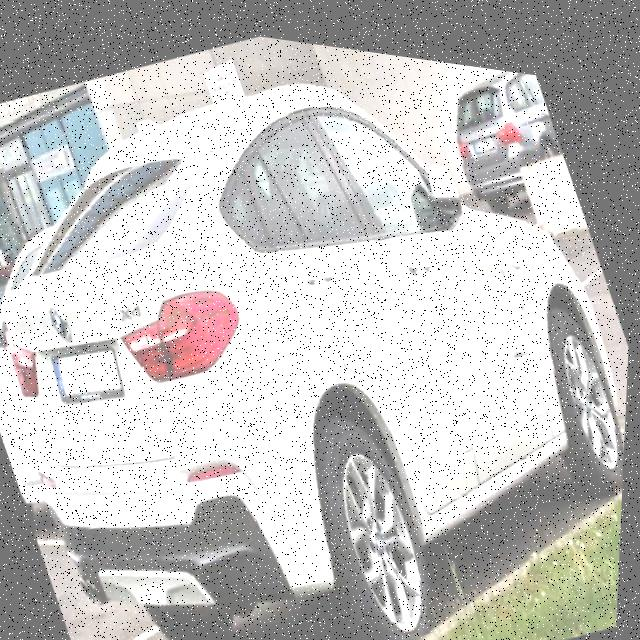license_plate: (48, 329, 134, 414), (471, 117, 499, 142)
